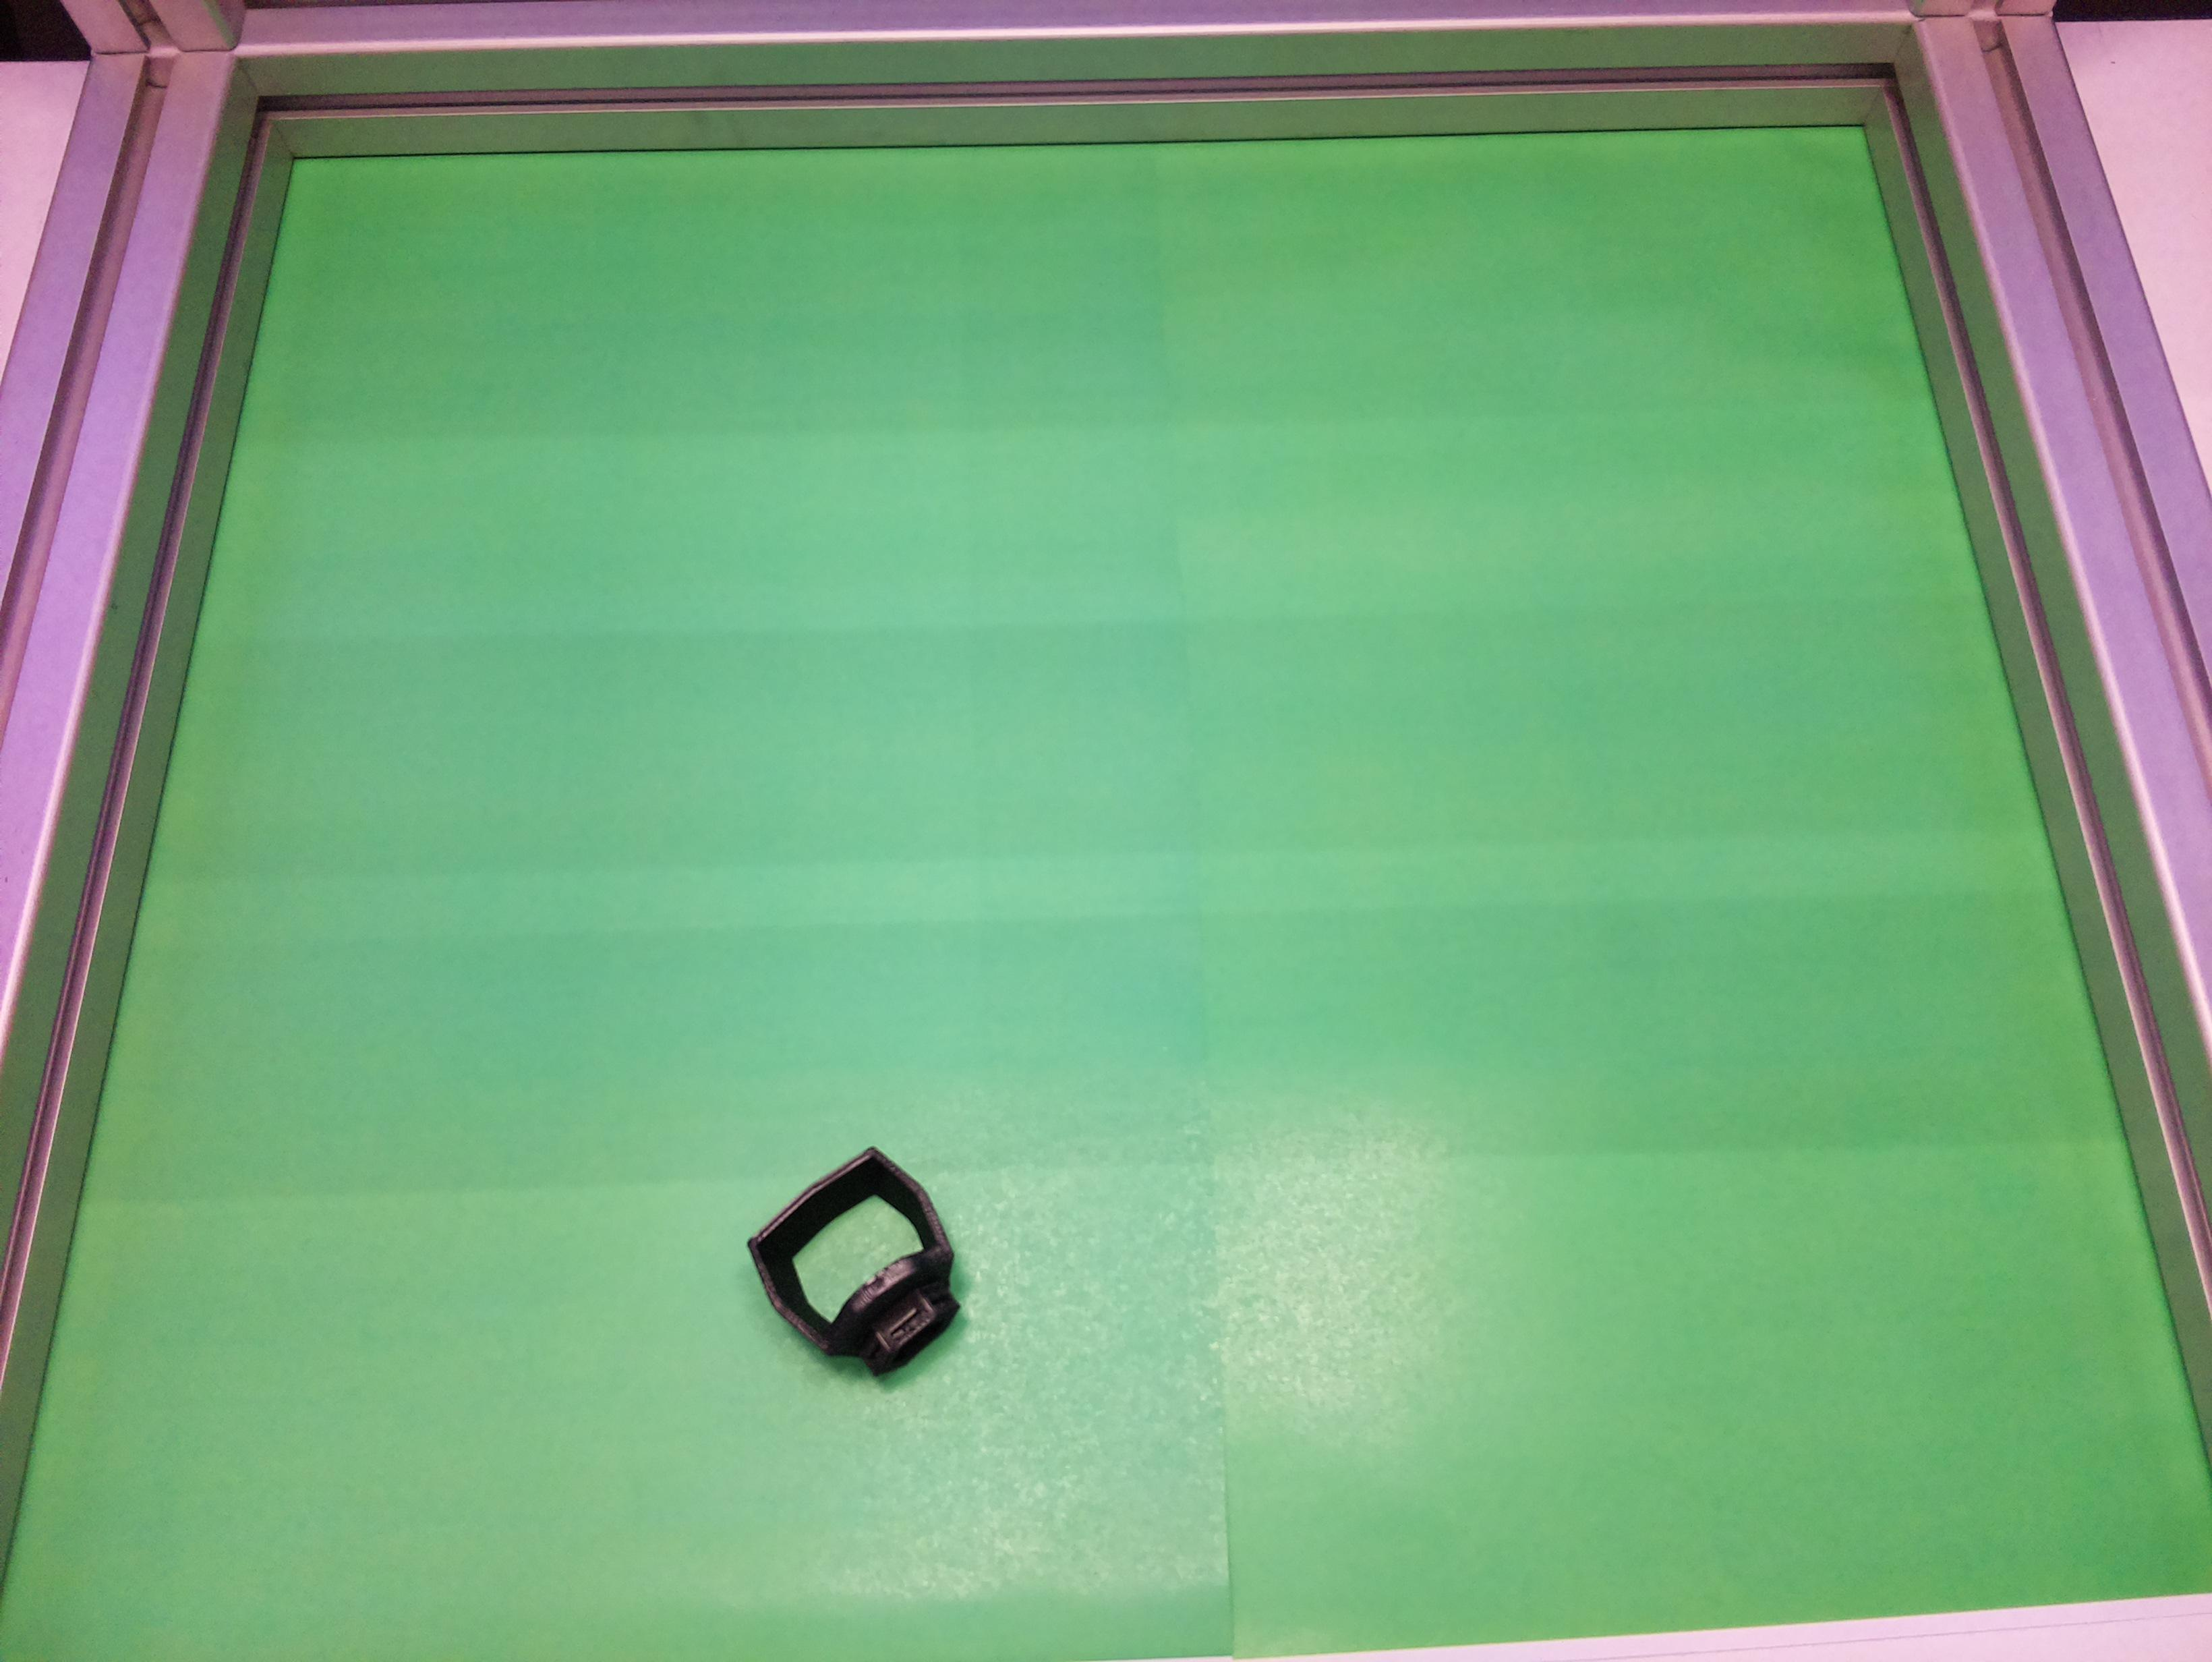scissor_holder: (730, 1131, 1002, 1405)
